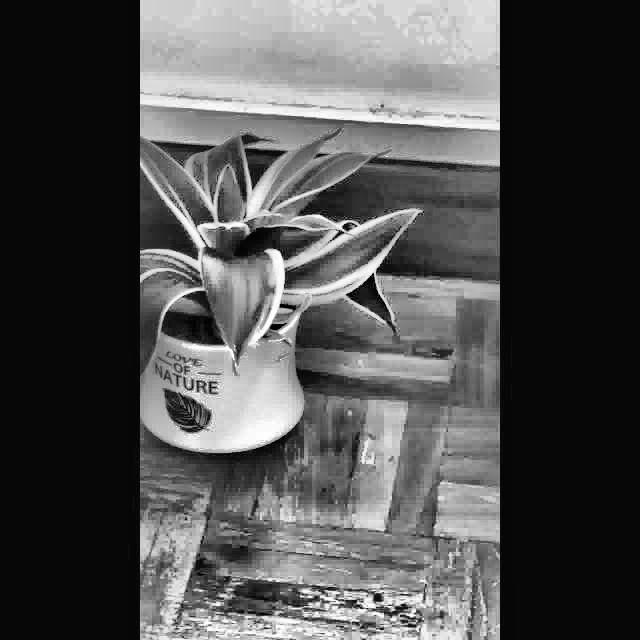plants: (140, 105, 429, 460)
